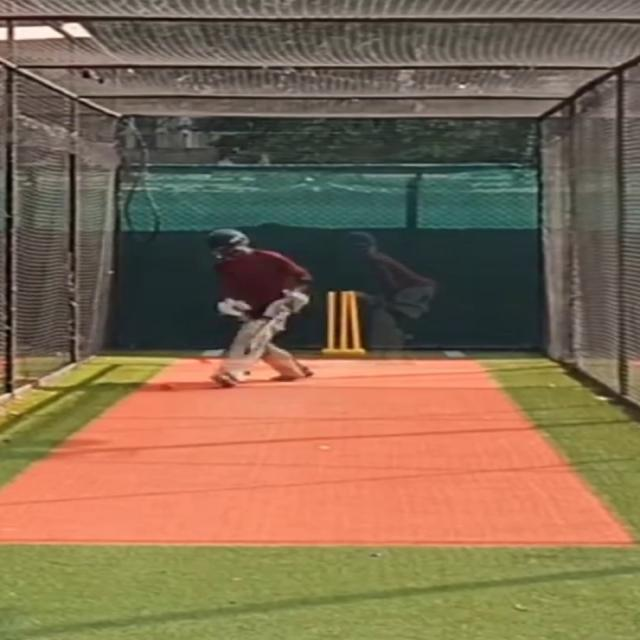stump: (320, 289, 364, 356)
